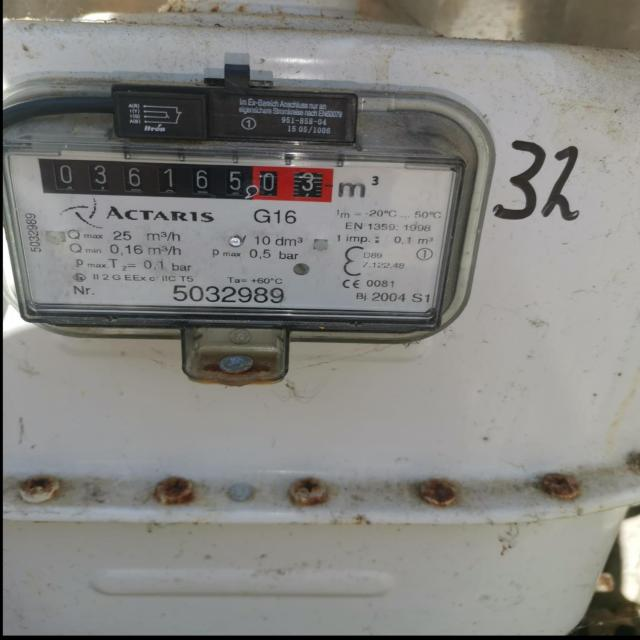gaz_meter: (3, 140, 465, 323)
indication: (38, 159, 333, 203)
